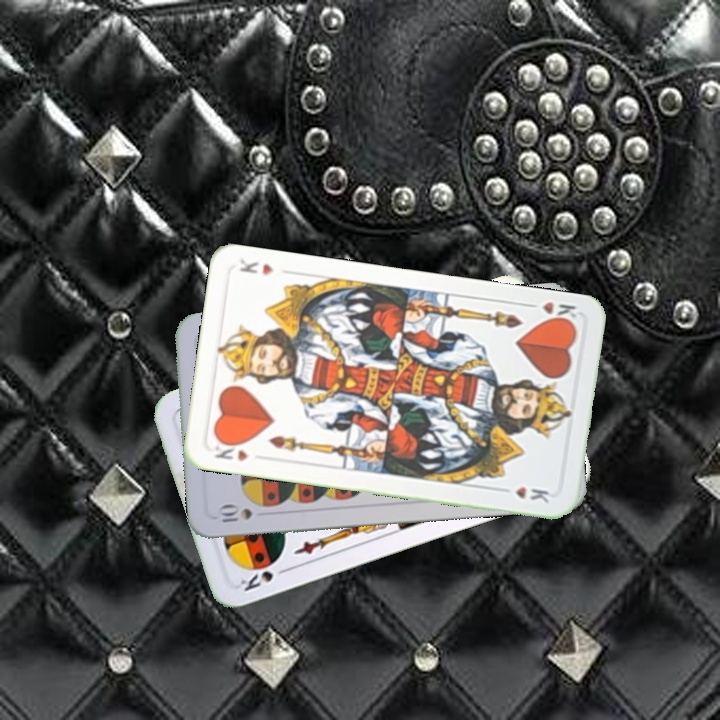HK: (521, 297, 581, 327), (210, 436, 251, 464)
S10: (217, 503, 254, 525)
SK: (236, 563, 292, 594)
